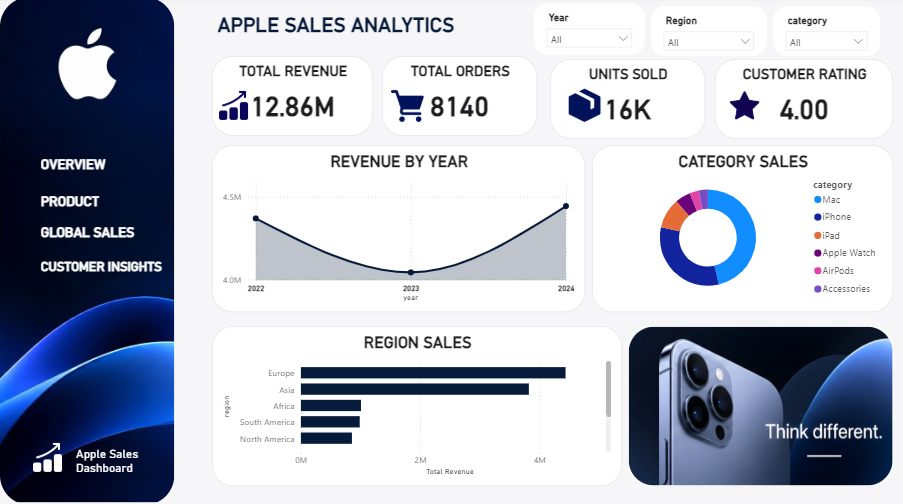

This screenshot's page, from the dashboard's own definition file:
{"tool":"powerbi","page":{"name":"Overview","canvas":[1280,720],"ordinal":0},"visuals":[{"type":"image","box":[0,0,246.1,719.5],"z":0},{"type":"card","title":"TOTAL REVENUE","fields":{"Values":["apple_global_sales_dataset (1).Total Revenue"]},"box":[300.5,83.6,228.2,113.4],"z":1000},{"type":"card","title":"CUSTOMER RATING","fields":{"Values":["Avg(apple_global_sales_dataset (1).customer_rating)"]},"box":[1013.4,87.9,252.3,113.4],"z":2000},{"type":"card","title":"UNITS SOLD","fields":{"Values":["apple_global_sales_dataset (1).Total Units Sold"]},"box":[779.5,87.9,219.7,113.4],"z":3000},{"type":"card","title":"TOTAL ORDERS","fields":{"Values":["apple_global_sales_dataset (1).Total Orders"]},"box":[541.4,83.6,219.7,113.4],"z":4000},{"type":"lineChart","title":"REVENUE BY YEAR","fields":{"Y":["apple_global_sales_dataset (1).Total Revenue"],"Category":["apple_global_sales_dataset (1).year"]},"box":[300.5,209.8,528.7,236.7],"z":5000},{"type":"donutChart","title":"CATEGORY SALES","fields":{"Category":["apple_global_sales_dataset (1).category"],"Y":["apple_global_sales_dataset (1).Total Revenue"]},"box":[839.1,209.8,426.6,236.7],"z":6000},{"type":"clusteredBarChart","title":"REGION SALES","fields":{"Y":["apple_global_sales_dataset (1).Total Revenue"],"Category":["apple_global_sales_dataset (1).region"]},"box":[300.5,466.3,581.1,226.8],"z":7000},{"type":"actionButton","box":[53.9,209.8,223.9,53.9],"z":8000},{"type":"actionButton","box":[53.9,360,219.7,45.4],"z":9000},{"type":"actionButton","box":[53.9,306.1,223.9,53.9],"z":10000},{"type":"actionButton","box":[53.9,262.2,223.9,53.9],"z":11000},{"type":"image","box":[26.9,43.7,194.9,100.8],"z":12000},{"type":"image","box":[890.1,466.3,375.6,226.8],"z":13000},{"type":"image","box":[307.6,119.1,46.8,69.4],"z":14000},{"type":"image","box":[1031.8,119.1,46.8,69.4],"z":15000},{"type":"image","box":[805,119.1,46.8,69.4],"z":16000},{"type":"image","box":[554.2,119.1,46.8,69.4],"z":17000},{"type":"textbox","box":[303.3,17,358.6,53.9],"z":18000},{"type":"shape","title":"Apple Sales Dashboard","box":[107.7,637.8,151.7,53.9],"z":19000},{"type":"image","box":[43.9,618,46.8,69.4],"z":20000},{"type":"slicer","title":"Year","fields":{"Values":["apple_global_sales_dataset (1).sale_date.Variation.Date Hierarchy.Year"]},"box":[756.9,8.5,157.3,73.7],"z":21000},{"type":"slicer","fields":{"Values":["apple_global_sales_dataset (1).category"]},"box":[1095.6,12.8,151.7,70.9],"z":22000},{"type":"slicer","fields":{"Values":["apple_global_sales_dataset (1).region"]},"box":[922.7,12.8,164.4,70.9],"z":23000}]}

Visuals, with their boxes in screenshot pixels (x1, y1, x2, y2), scaled from the page's 1280x720 canvas onto the 903x504 screenshot:
image: {"left": 0, "top": 0, "right": 174, "bottom": 503}
"TOTAL REVENUE" card: {"left": 212, "top": 59, "right": 373, "bottom": 138}
"CUSTOMER RATING" card: {"left": 715, "top": 62, "right": 893, "bottom": 141}
"UNITS SOLD" card: {"left": 550, "top": 62, "right": 705, "bottom": 141}
"TOTAL ORDERS" card: {"left": 382, "top": 59, "right": 537, "bottom": 138}
"REVENUE BY YEAR" lineChart: {"left": 212, "top": 147, "right": 585, "bottom": 313}
"CATEGORY SALES" donutChart: {"left": 592, "top": 147, "right": 893, "bottom": 313}
"REGION SALES" clusteredBarChart: {"left": 212, "top": 326, "right": 622, "bottom": 485}
actionButton: {"left": 38, "top": 147, "right": 196, "bottom": 185}
actionButton: {"left": 38, "top": 252, "right": 193, "bottom": 284}
actionButton: {"left": 38, "top": 214, "right": 196, "bottom": 252}
actionButton: {"left": 38, "top": 184, "right": 196, "bottom": 221}
image: {"left": 19, "top": 31, "right": 156, "bottom": 101}
image: {"left": 628, "top": 326, "right": 893, "bottom": 485}
image: {"left": 217, "top": 83, "right": 250, "bottom": 132}
image: {"left": 728, "top": 83, "right": 761, "bottom": 132}
image: {"left": 568, "top": 83, "right": 601, "bottom": 132}
image: {"left": 391, "top": 83, "right": 424, "bottom": 132}
textbox: {"left": 214, "top": 12, "right": 467, "bottom": 50}
"Apple Sales Dashboard" shape: {"left": 76, "top": 446, "right": 183, "bottom": 484}
image: {"left": 31, "top": 433, "right": 64, "bottom": 481}
"Year" slicer: {"left": 534, "top": 6, "right": 645, "bottom": 58}
slicer - apple_global_sales_dataset (1).category: {"left": 773, "top": 9, "right": 880, "bottom": 59}
slicer - apple_global_sales_dataset (1).region: {"left": 651, "top": 9, "right": 767, "bottom": 59}
